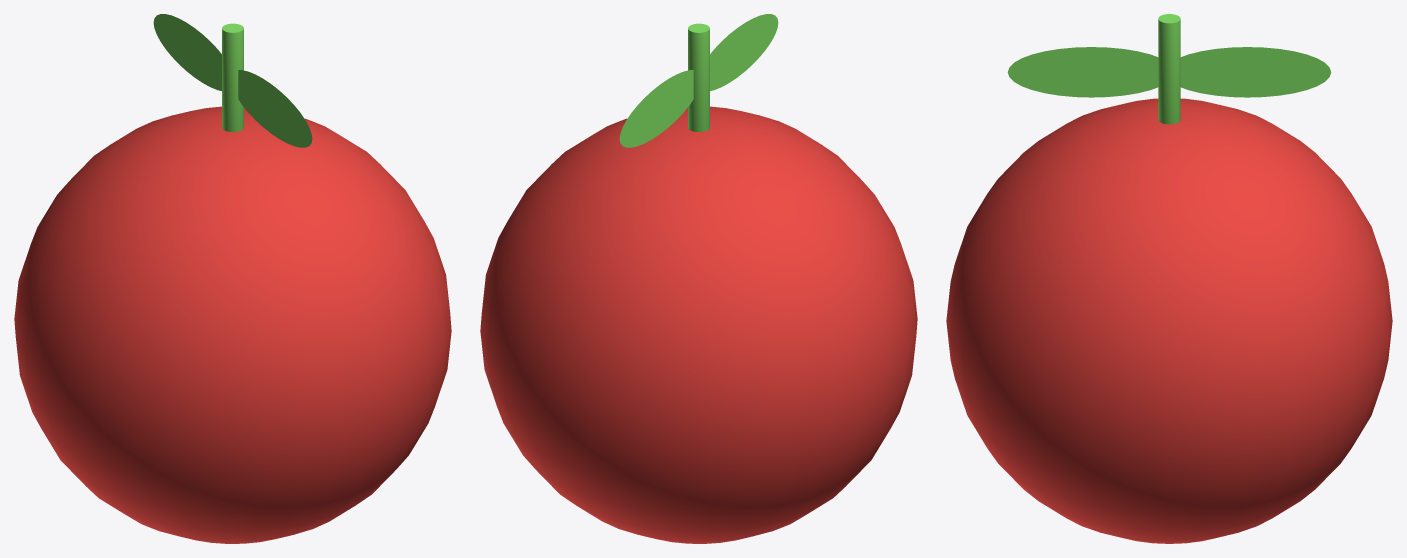
Rendered from food.fbx.
3 views of the same model, side by side, from view 1: azimuth 30°, elevation 25°; view 2: azimuth 150°, elevation 25°; view 3: azimuth 270°, elevation 25° (orthographic).
Parts seen in each view (by area): view 1: Berry; view 2: Berry; view 3: Berry.
Part boxes in pixels (<box>): Berry: <box>14,14,451,543</box>; Berry: <box>480,14,917,543</box>; Berry: <box>946,14,1392,543</box>.
Size of the model in its own units: 200 by 249 by 200.
